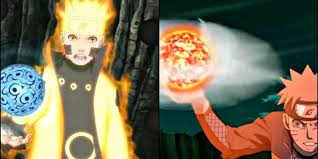Naruto: (54, 1, 111, 70), (280, 66, 318, 153)
